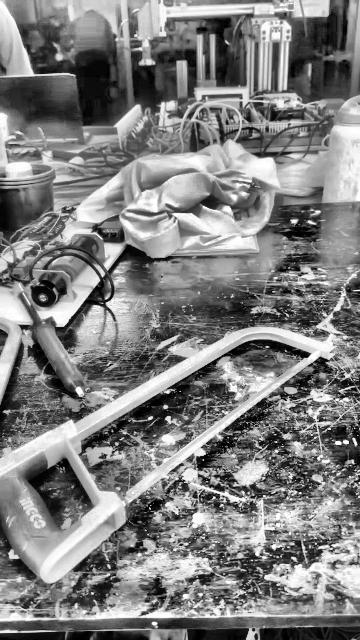pot: (1, 169, 57, 232)
